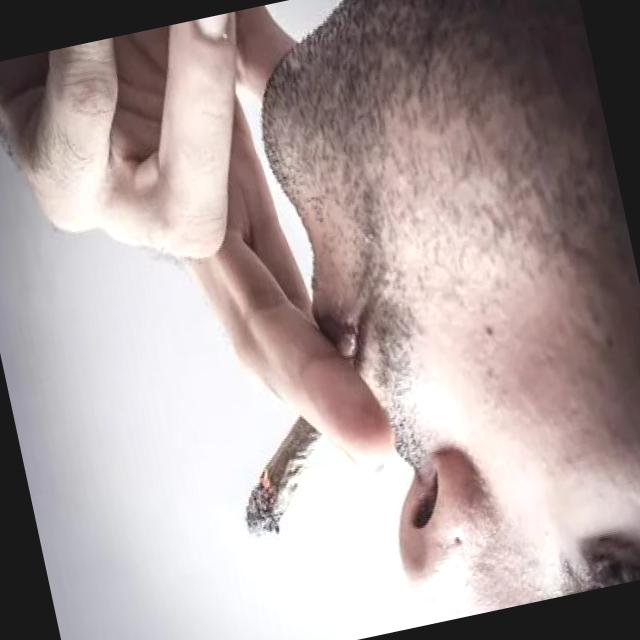cigarette: (218, 412, 348, 558)
